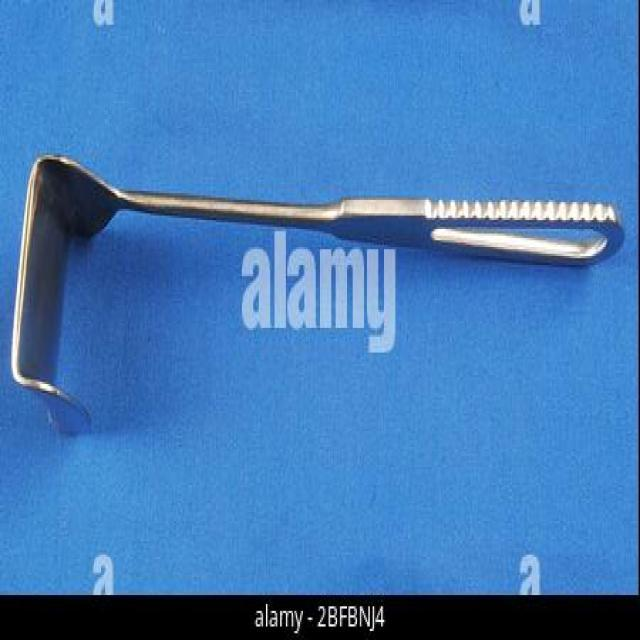Morris Retractor: (7, 138, 634, 442)
